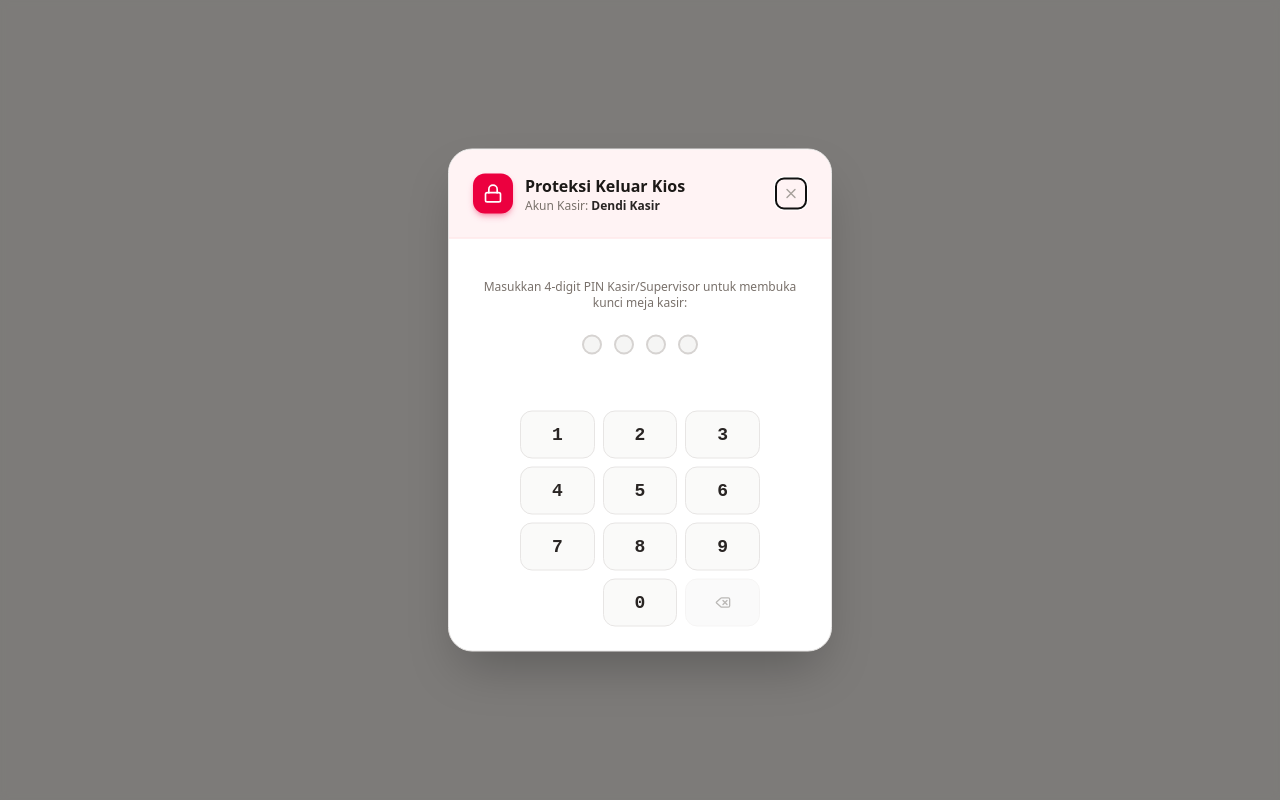
Test: KioskExitDialog Component › shows the backend lockout message with the remaining minutes on 429
Click the button "1". click: (557, 434)
box: [520,410,595,458]
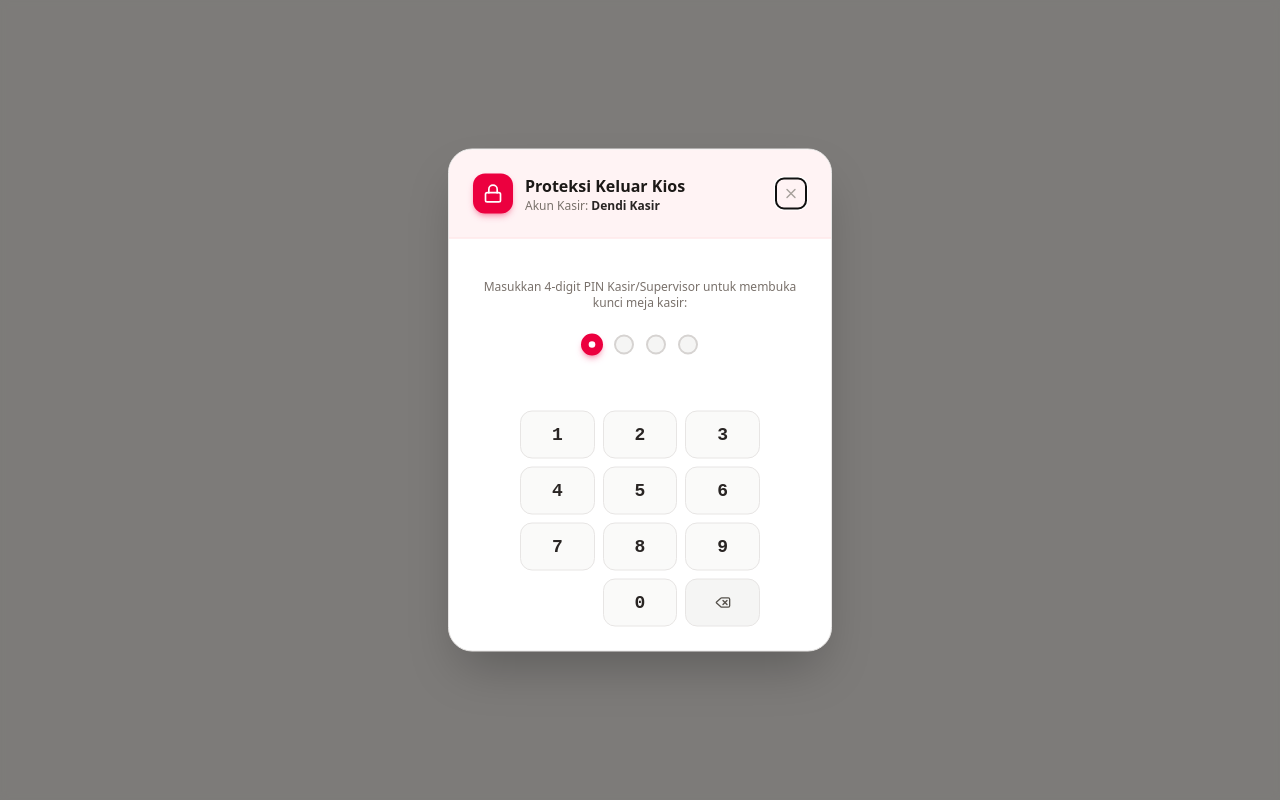
Click the button "1". click: (557, 434)
box: [520,410,595,458]
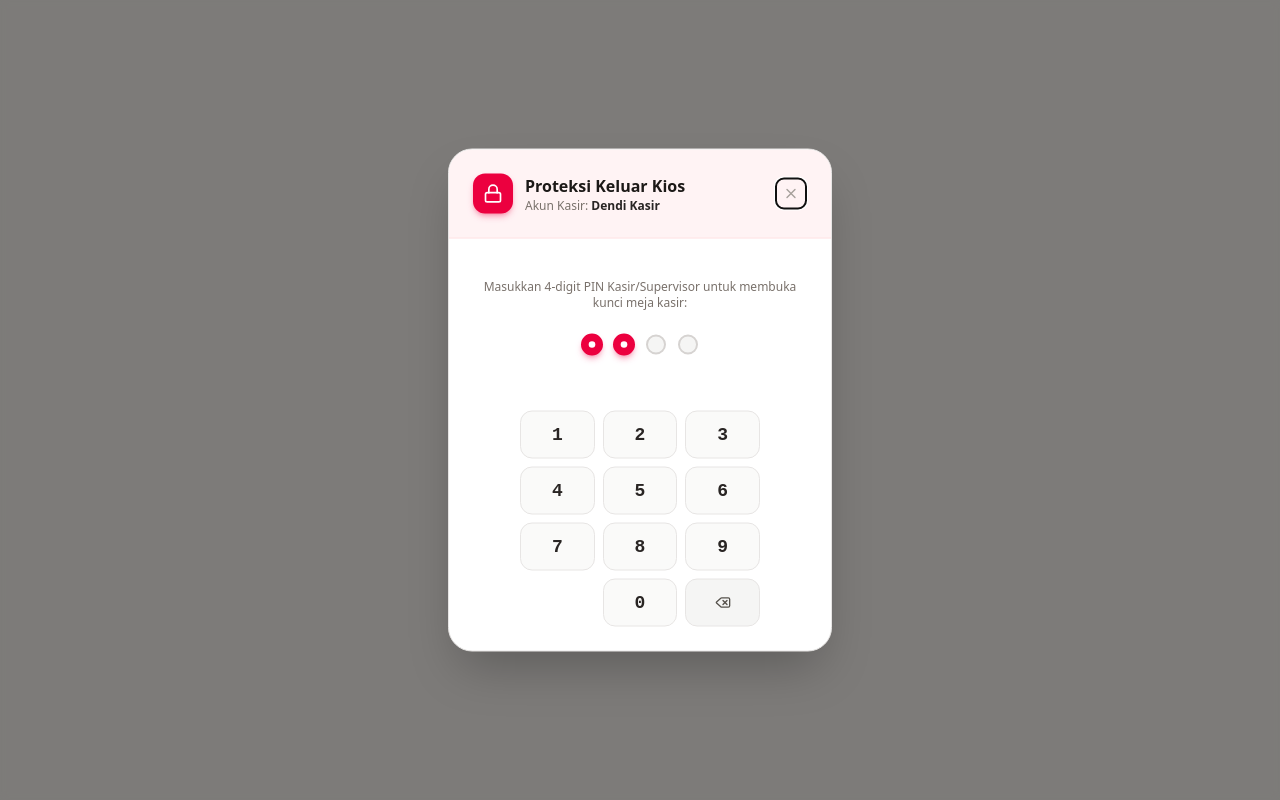
Click the button "1". click: (557, 434)
box: [520,410,595,458]
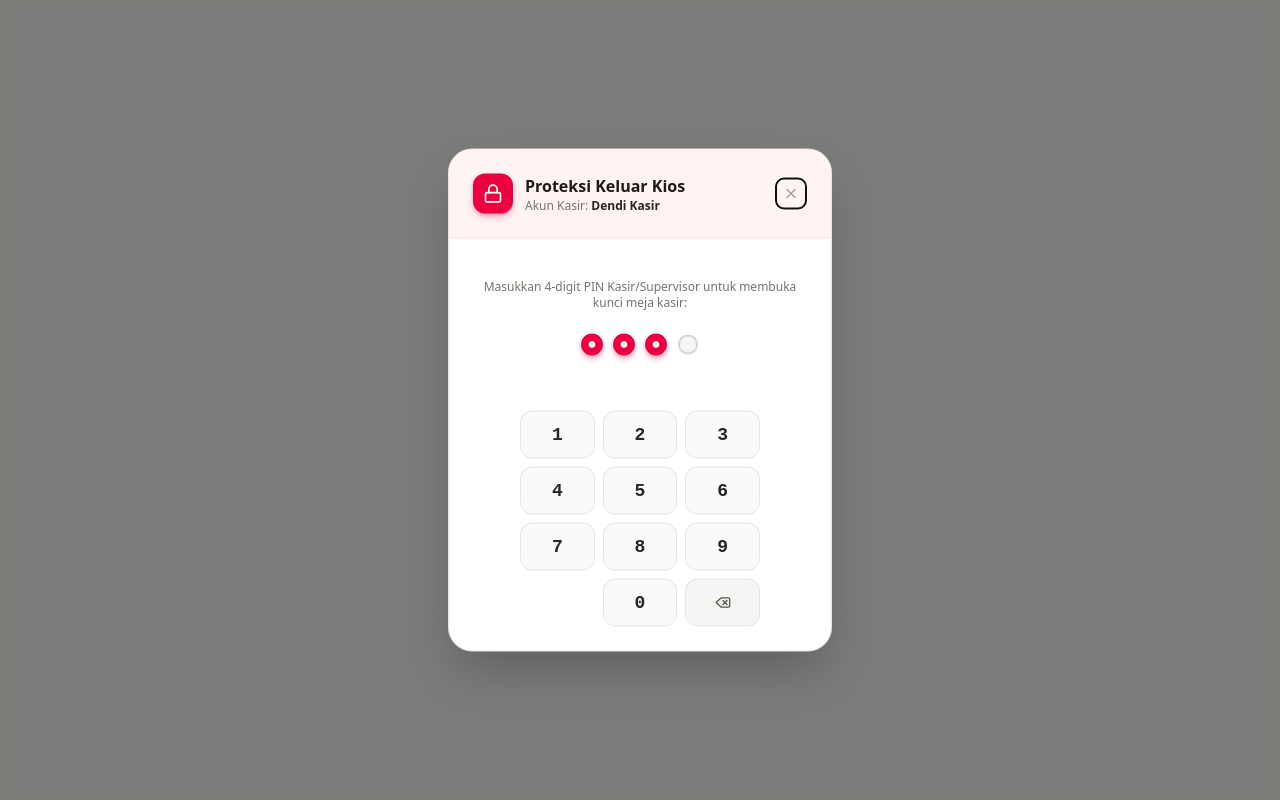
Click the button "1". click: (557, 434)
box: [520,410,595,458]
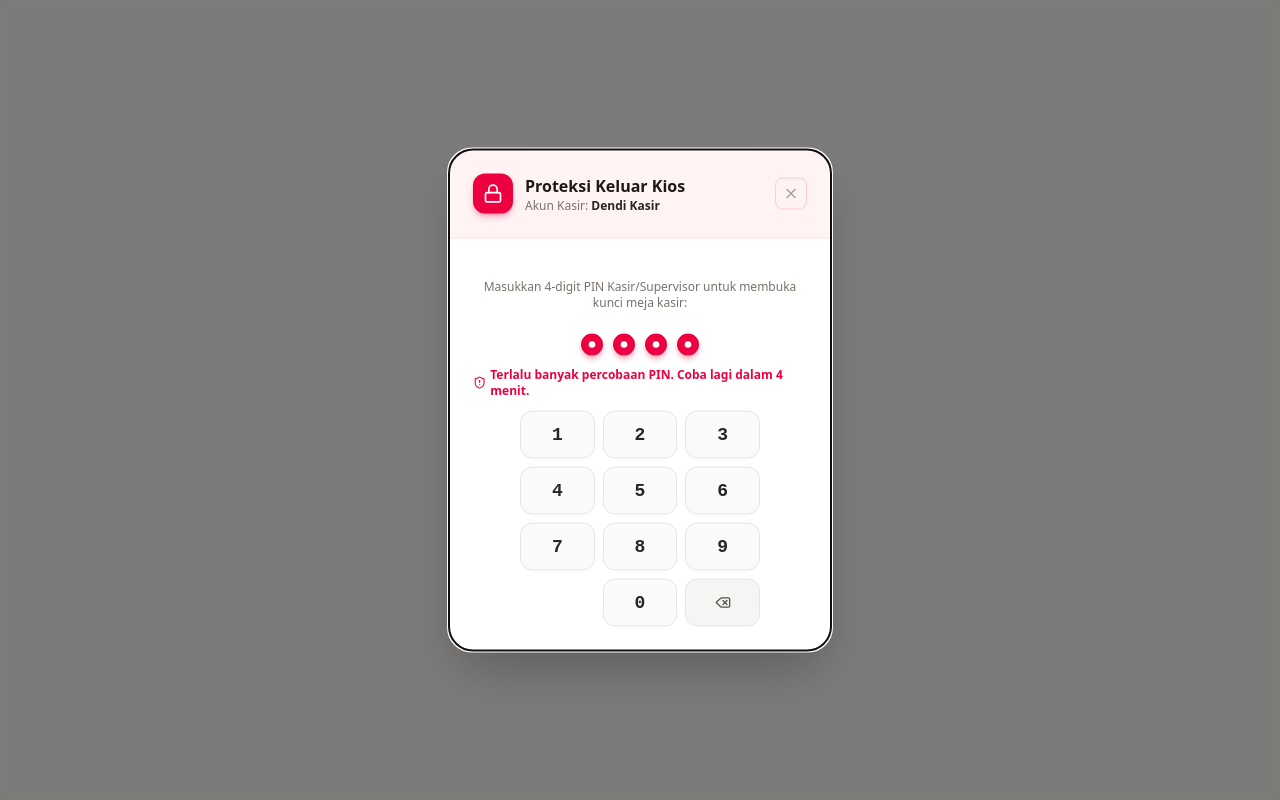
Expected: the text "Terlalu banyak percobaan PIN. Coba lagi dalam 4 menit." is shown, [473,366,807,398]
